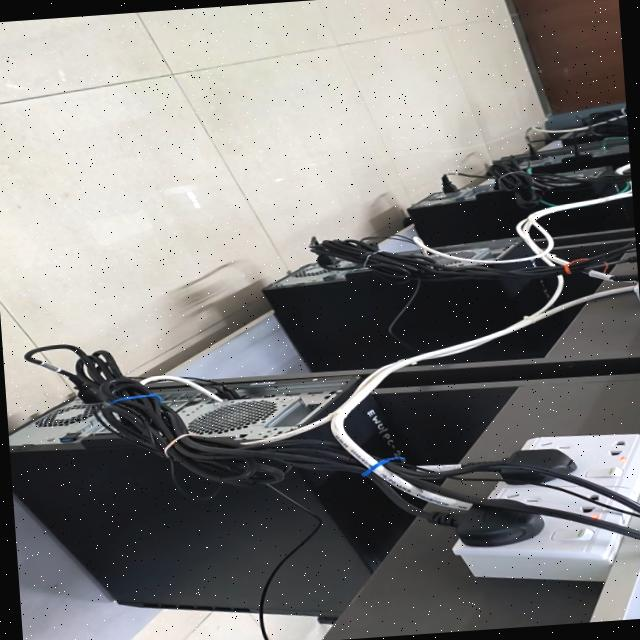Cpu: (7, 345, 413, 621), (264, 271, 555, 371), (408, 167, 632, 246), (423, 305, 581, 363), (549, 204, 617, 226), (451, 241, 530, 259)
